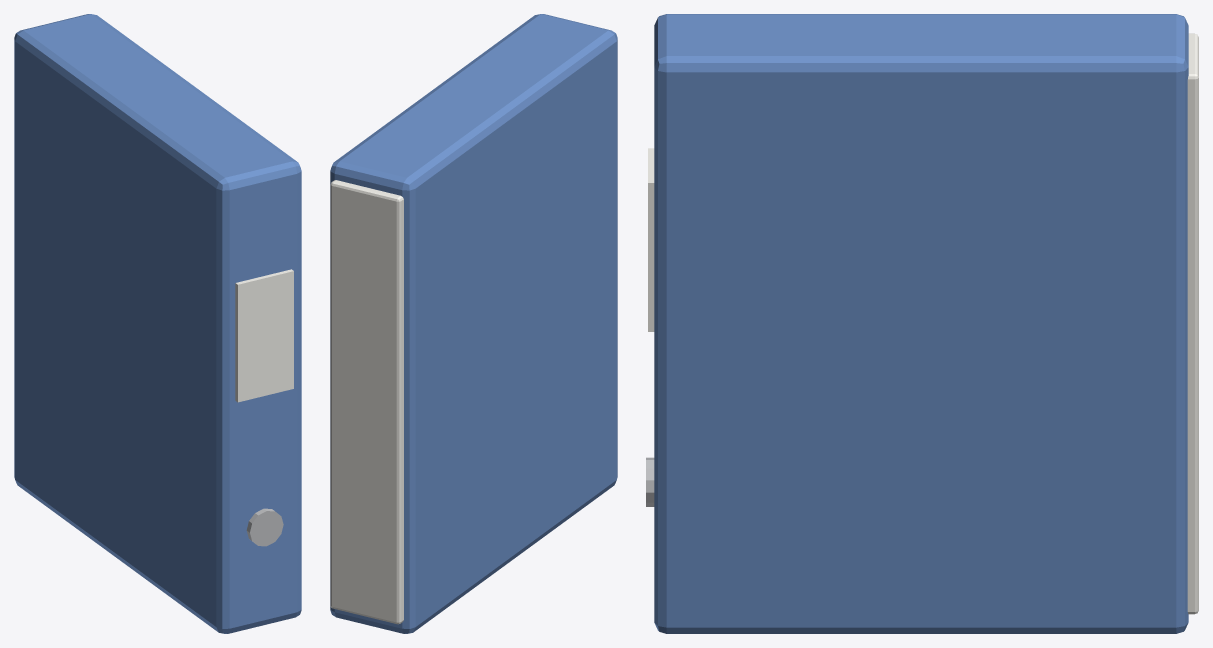
Rendered from binder_blue.fbx.
3 renders of one model, left to right at view 1: azimuth 30°, elevation 25°; view 2: azimuth 150°, elevation 25°; view 3: azimuth 270°, elevation 25°, orthographic. The views are drawn at different scales.
Parts seen in each view (by area): view 1: binder_blue; view 2: binder_blue; view 3: binder_blue.
Boxes of the visible parts, x1,y1,x2,y2 form: binder_blue: [14, 14, 301, 633]; binder_blue: [330, 14, 617, 633]; binder_blue: [646, 14, 1198, 633].
Size of the model in its own units: 0.06 by 0.31 by 0.269.
